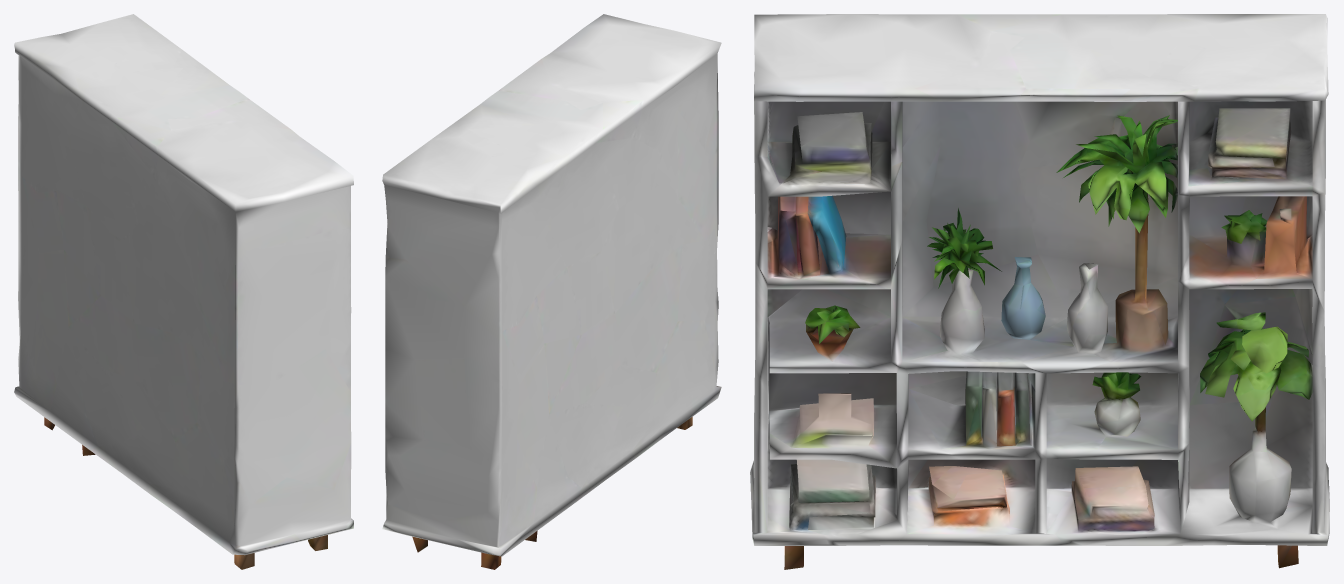
The model's file is bookcase.glb.
3 renders of one model, left to right at view 1: azimuth 30°, elevation 25°; view 2: azimuth 150°, elevation 25°; view 3: azimuth 270°, elevation 25°, orthographic. The views are drawn at different scales.
Visible parts, largest first — view 1: tripo_node_d4be234e-b83e-4fcd-b5e2-661d649de4a9; view 2: tripo_node_d4be234e-b83e-4fcd-b5e2-661d649de4a9; view 3: tripo_node_d4be234e-b83e-4fcd-b5e2-661d649de4a9.
Boxes of the visible parts, x1,y1,x2,y2 form: tripo_node_d4be234e-b83e-4fcd-b5e2-661d649de4a9: [14, 14, 353, 569]; tripo_node_d4be234e-b83e-4fcd-b5e2-661d649de4a9: [382, 14, 721, 569]; tripo_node_d4be234e-b83e-4fcd-b5e2-661d649de4a9: [750, 14, 1329, 569].
Size of the model in its own units: 0.3572 by 0.9355 by 1.
Materials: 1 (1 with a texture image).
